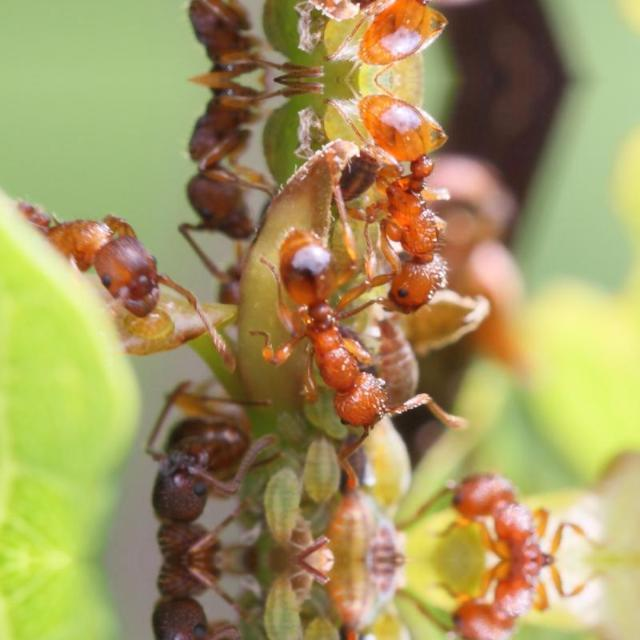Myrmica: (262, 227, 436, 441), (18, 179, 222, 355), (147, 80, 325, 252), (349, 95, 485, 318), (126, 403, 264, 559), (435, 456, 597, 560), (147, 0, 325, 80), (435, 560, 597, 640), (125, 560, 262, 640), (349, 0, 485, 64)
